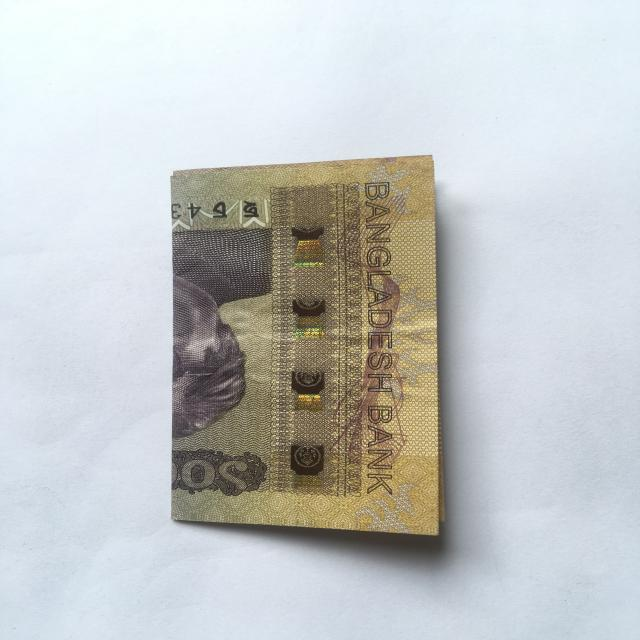Taka: (158, 157, 448, 538)
